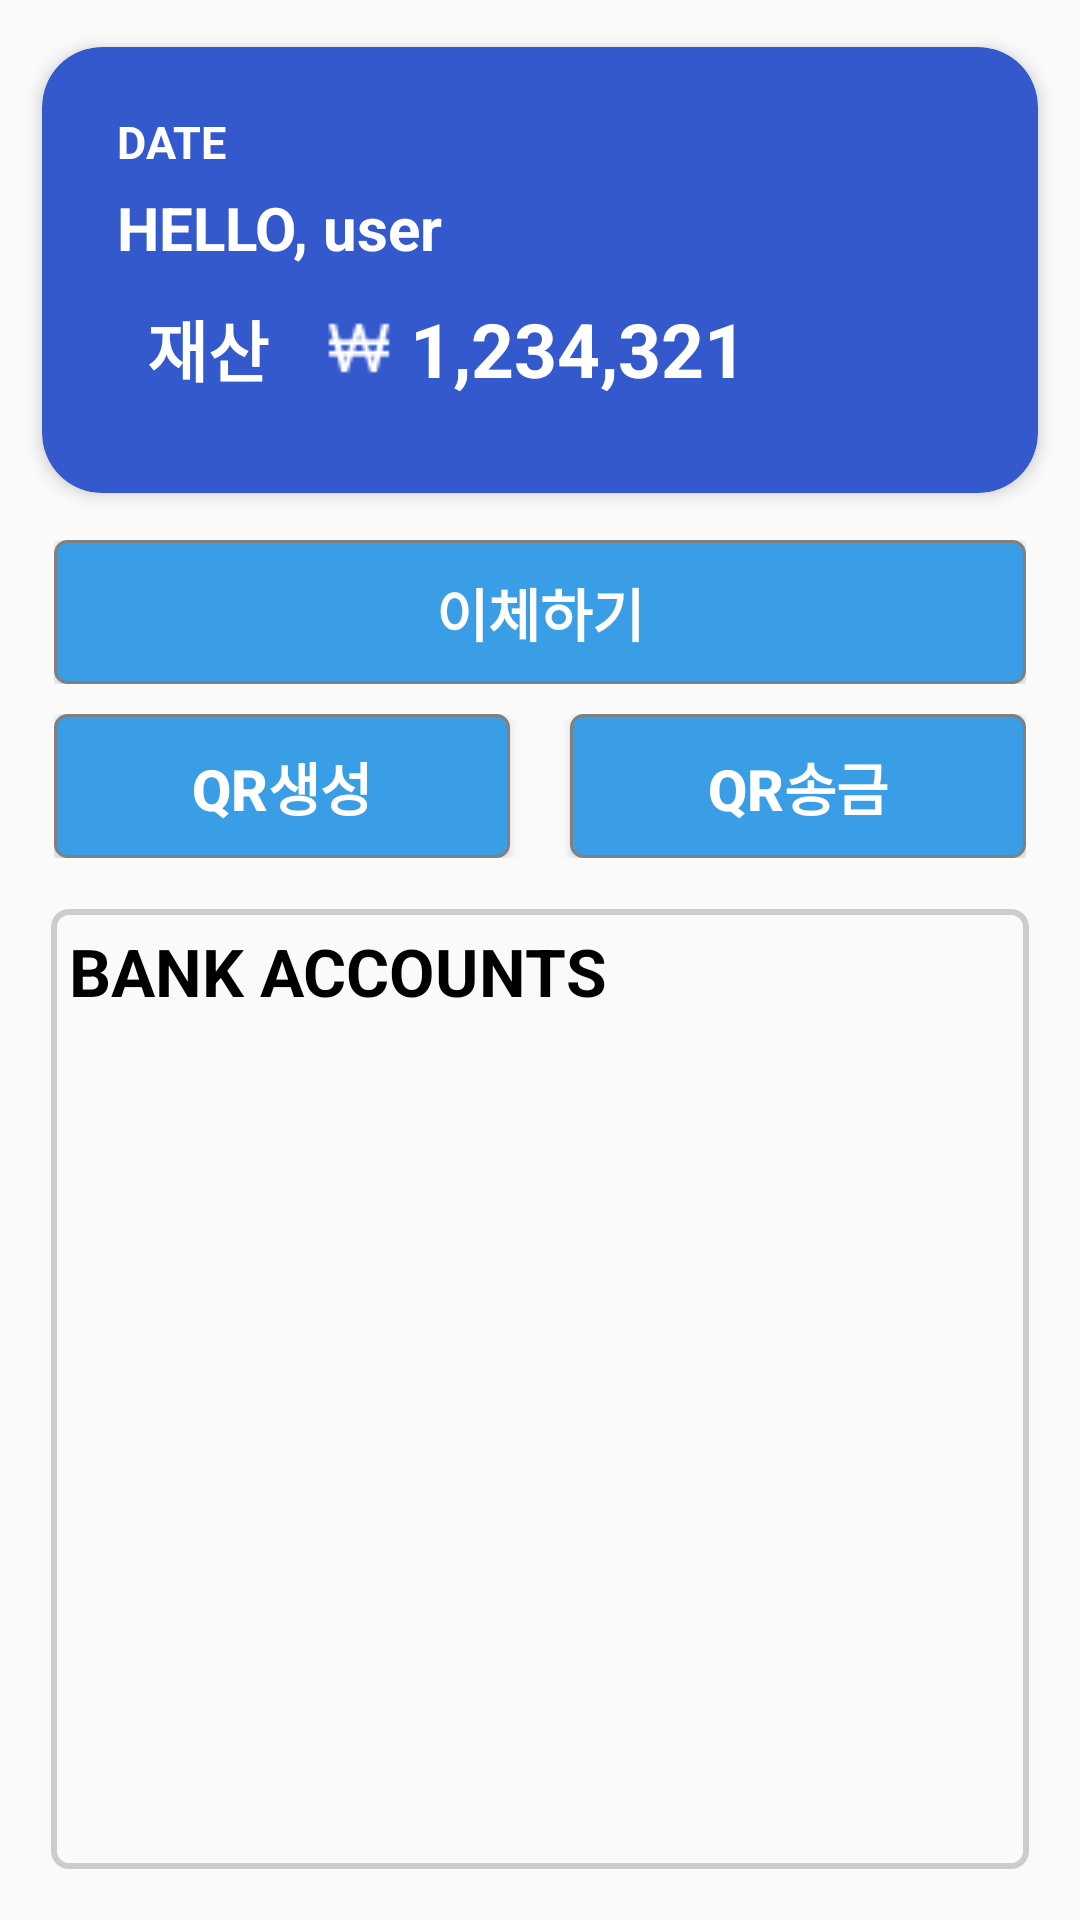

Where to tap for icons on this 1080x1920 app screen, as point (x, y):
won: point (359, 348)
